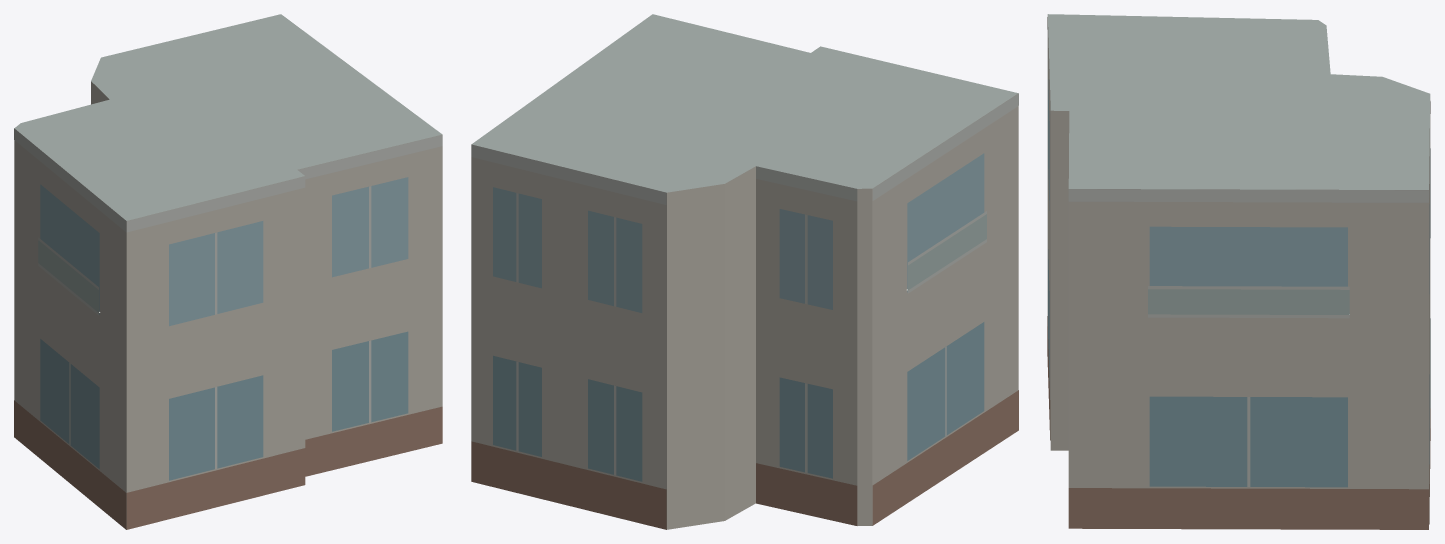
The model's file is survey-upis-32902906.glb.
3 views of the same model, side by side, from view 1: azimuth 30°, elevation 25°; view 2: azimuth 150°, elevation 25°; view 3: azimuth 270°, elevation 25° (orthographic). The views are drawn at different scales.
Parts seen in each view (by area): view 1: survey-upis-32902906.tmp; view 2: survey-upis-32902906.tmp; view 3: survey-upis-32902906.tmp.
Part boxes in pixels (left/top/right/bottom): survey-upis-32902906.tmp: left=14, top=14, right=442, bottom=529; survey-upis-32902906.tmp: left=471, top=14, right=1018, bottom=529; survey-upis-32902906.tmp: left=1047, top=14, right=1430, bottom=529.
Bounding box in the file's own units: 7.26 × 6.5 × 6.64.
